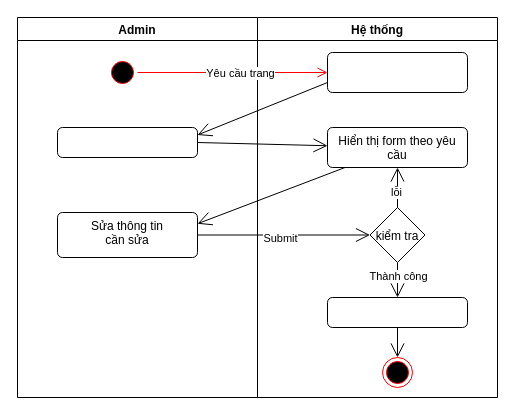
Image size: 515x415. Some labels were removed from this diagram. The centre of each missing label's shape, as x and y in pixels:
Chọn sửa truyện: [127,142]
Cập nhật cơ sở dữ liệu: [397,312]
Hiển thị trang quản lý truyện: [397,72]
